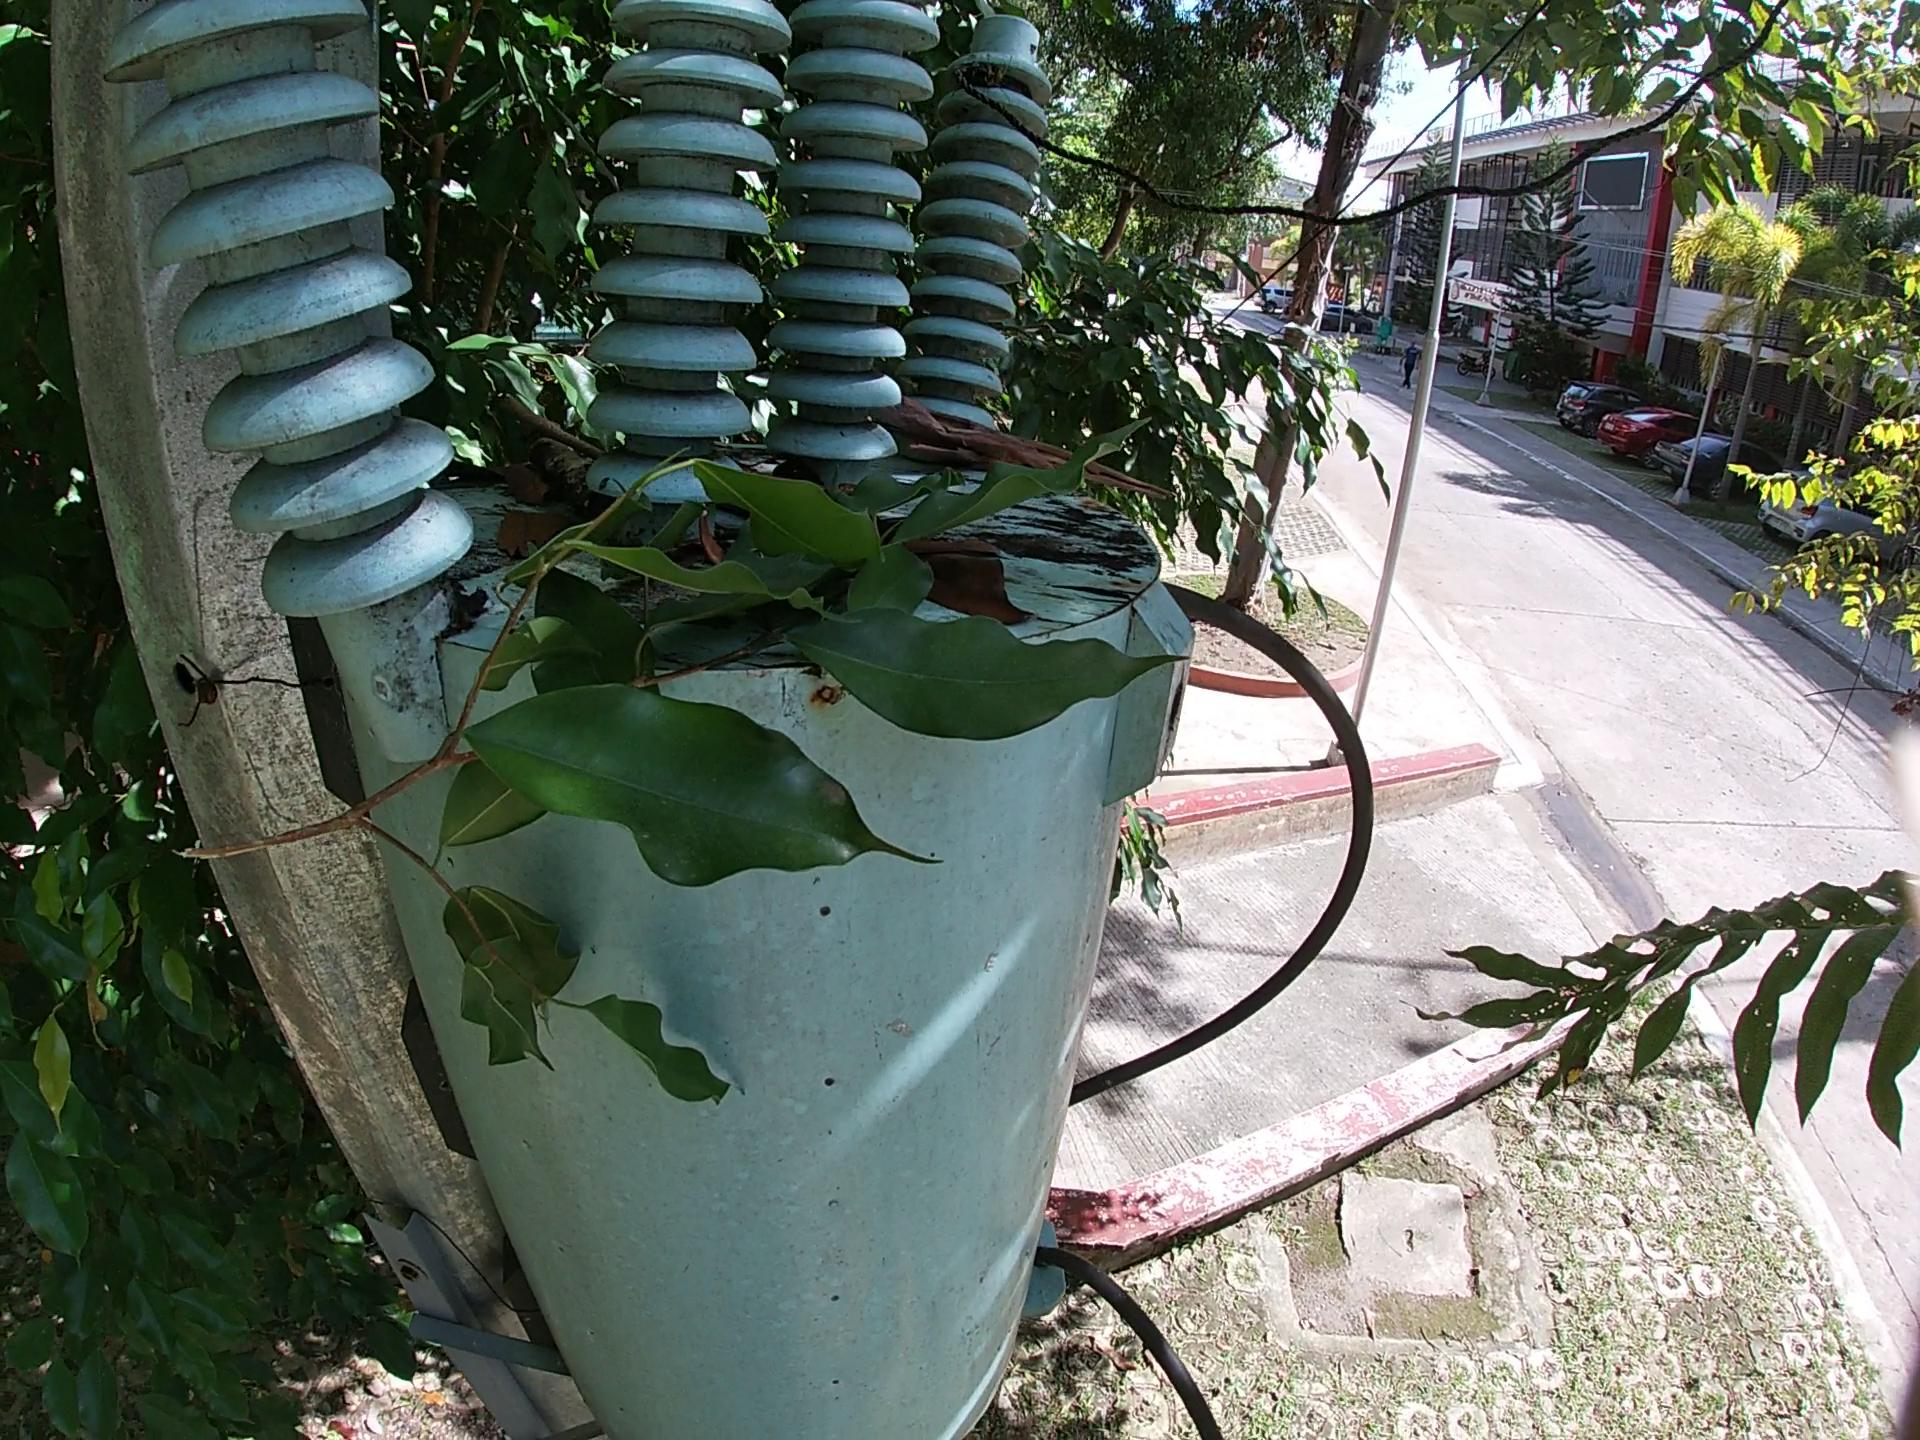branch with leaves: (169, 413, 1200, 1113)
leaf: (912, 557, 1039, 629), (487, 499, 565, 569), (497, 455, 561, 514), (900, 535, 1019, 560)
mahogany fruit: (689, 502, 729, 563)
tree branch: (872, 395, 1184, 507), (494, 393, 611, 461)
